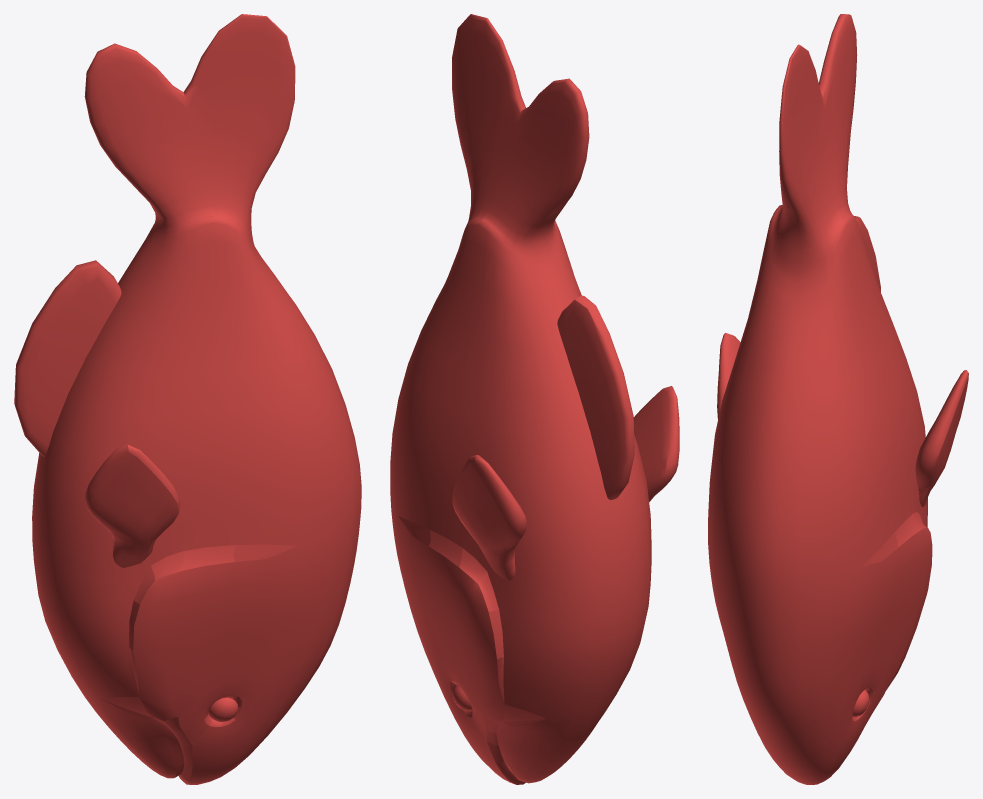
The picture shows the model from 3 angles, left to right: view 1: azimuth 30°, elevation 25°; view 2: azimuth 150°, elevation 25°; view 3: azimuth 270°, elevation 25°; orthographic projection. The views are drawn at different scales.
Parts seen in each view (by area): view 1: body, back_fin, right_fin; view 2: body, back_fin, left_fin, right_fin; view 3: body, left_fin, right_fin, back_fin.
Part boxes in pixels (x1,y1,x2,y2): body: (32,14,361,784); back_fin: (14,260,121,456); right_fin: (85,444,179,567); body: (390,14,651,784); back_fin: (557,295,634,499); left_fin: (452,455,526,580); right_fin: (633,386,679,501); body: (708,14,932,784); left_fin: (915,370,968,507); right_fin: (717,333,740,419); back_fin: (854,216,880,291).
Size of the model in its own units: 18.71 by 14.76 by 47.19.
